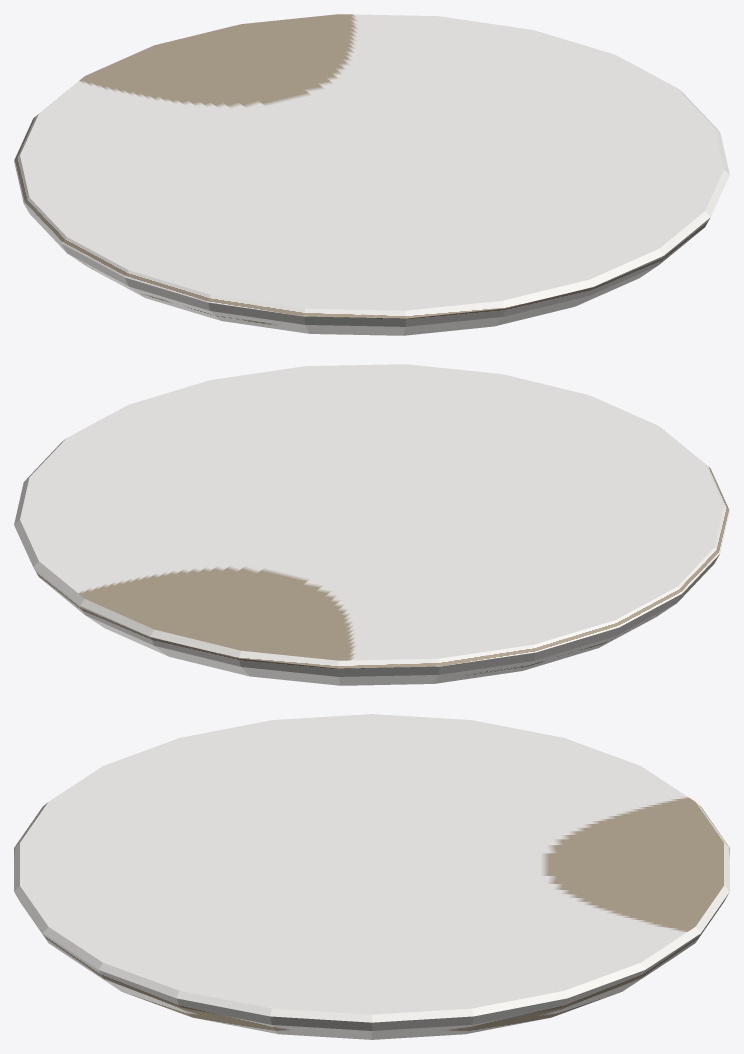
File: plate.obj
3 renders of one model, top to bottom at view 1: azimuth 30°, elevation 25°; view 2: azimuth 150°, elevation 25°; view 3: azimuth 270°, elevation 25°, orthographic.
Parts seen in each view (by area): view 1: plate; view 2: plate; view 3: plate.
Boxes of the visible parts, x1,y1,x2,y2 form: plate: (14, 14, 729, 335); plate: (14, 364, 729, 685); plate: (14, 714, 729, 1039).
Bounding box in the file's own units: 0.24 × 0.018 × 0.2376.
1 material, 1 textured.
